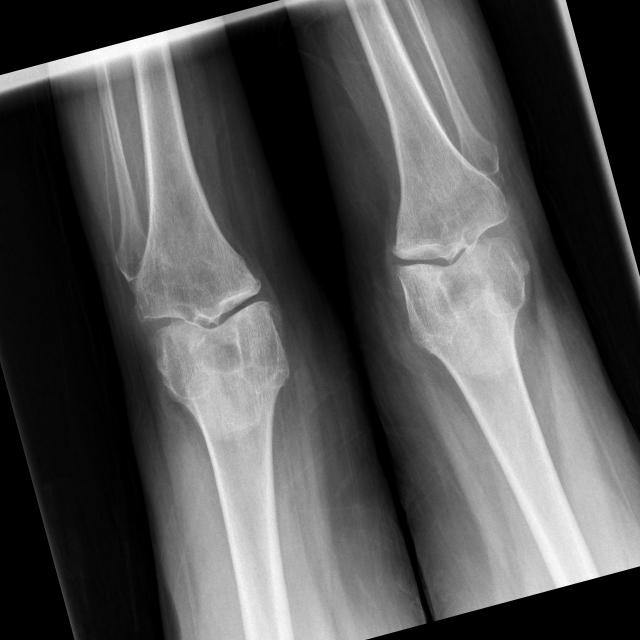Knee: (371, 172, 539, 328), (126, 239, 292, 388)
